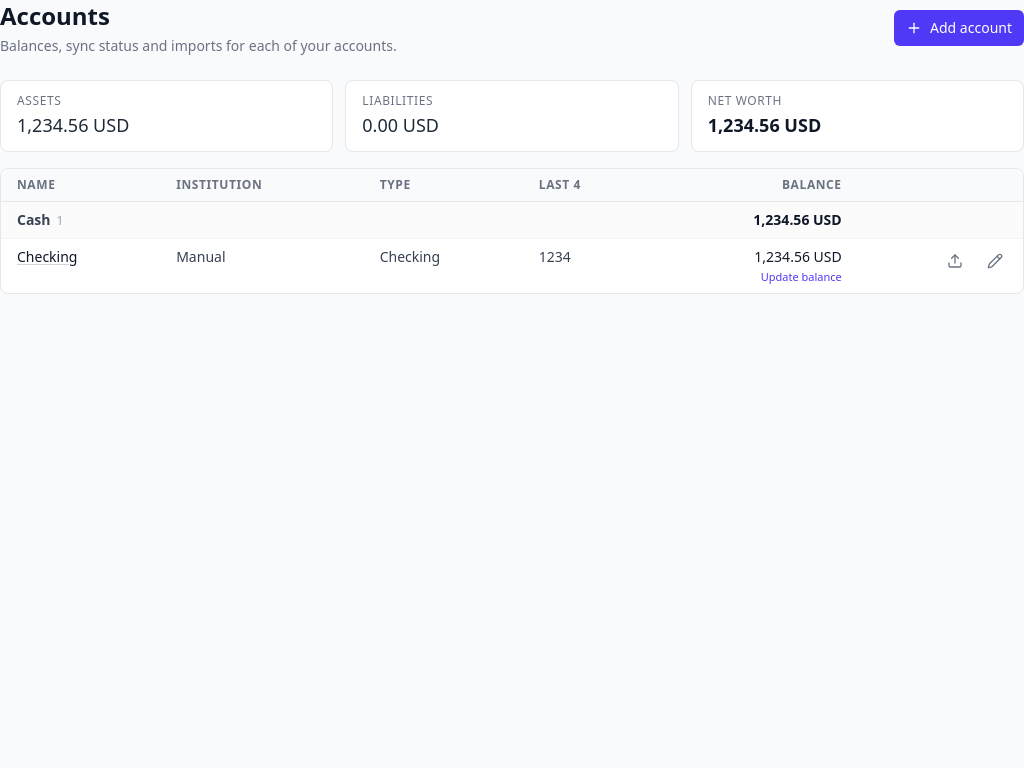
Test: Update balance (#504) › saves a past-dated balance and shows today's balance separately
Click the button with aria-label "Update balance for Checking".
click(754, 277)  # box [667,269,842,285]
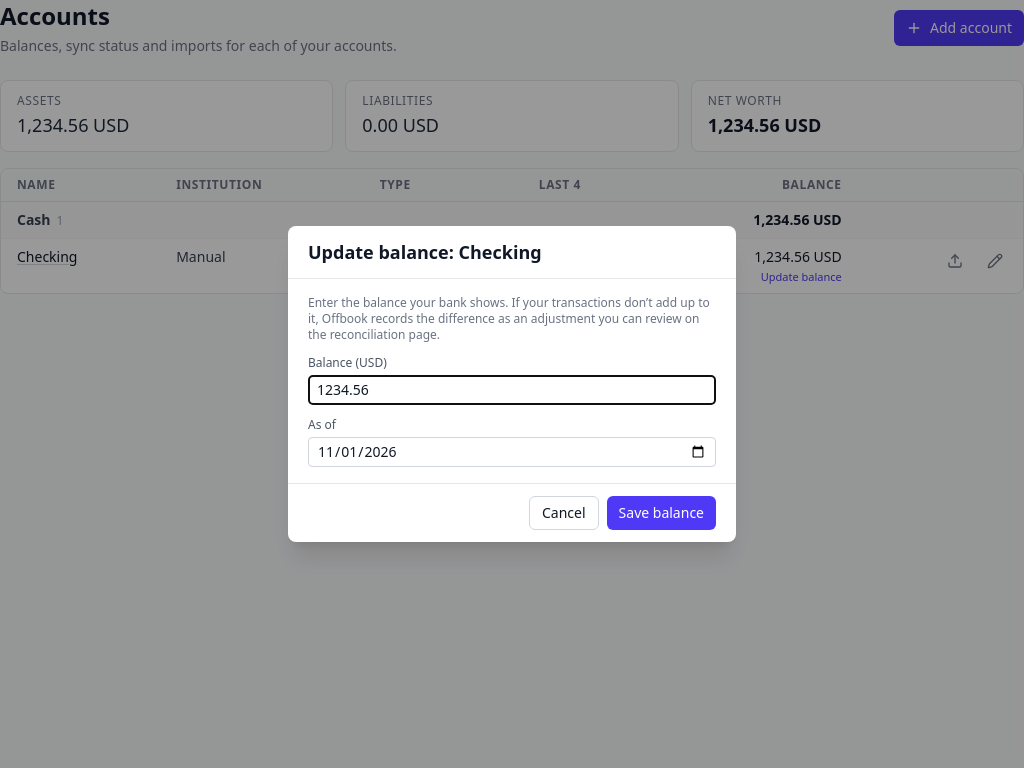
Replace the text in the field labelled "Balance (USD)" with "1000" at (512, 390), box [308,375,716,405]
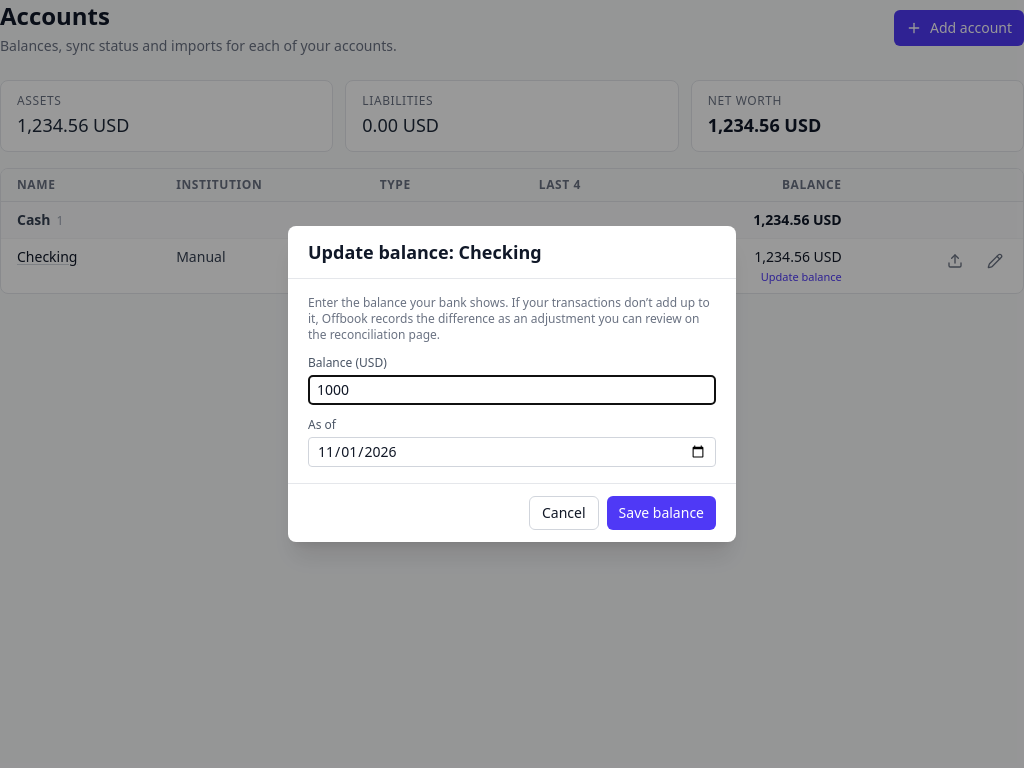
Type "2026-05-31" into the date field labelled "As of".
click(512, 452); type("2026-05-31")  # box [308,437,716,467]
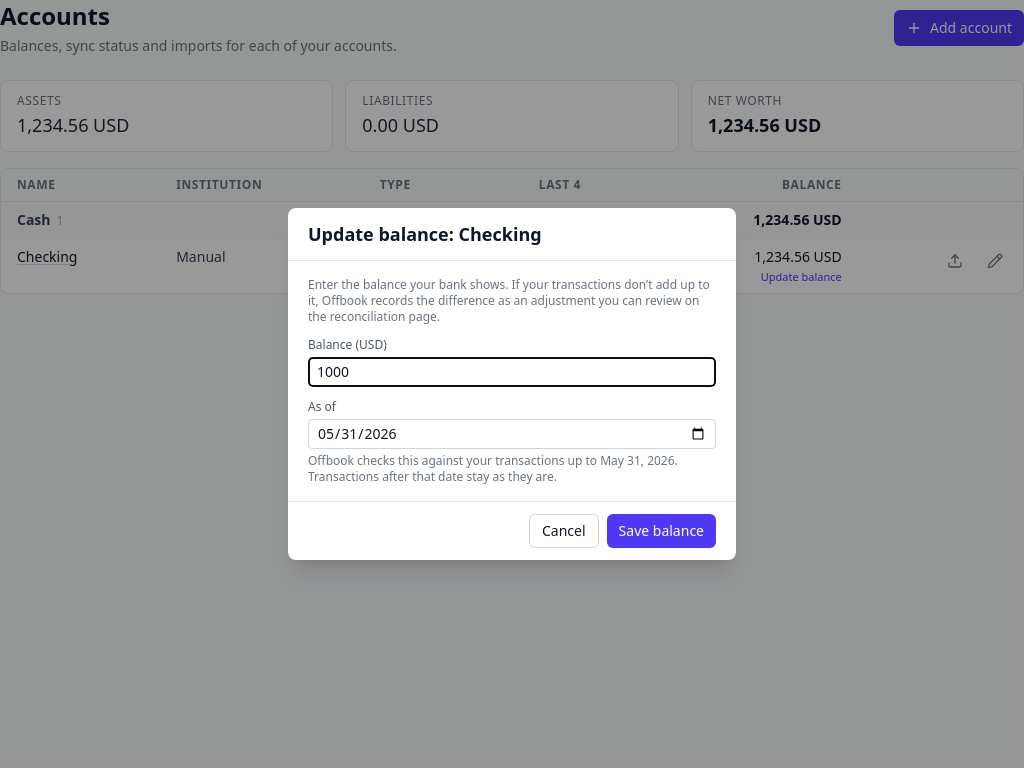
Click the button "Save balance".
click(661, 531)  # box [607,514,716,548]
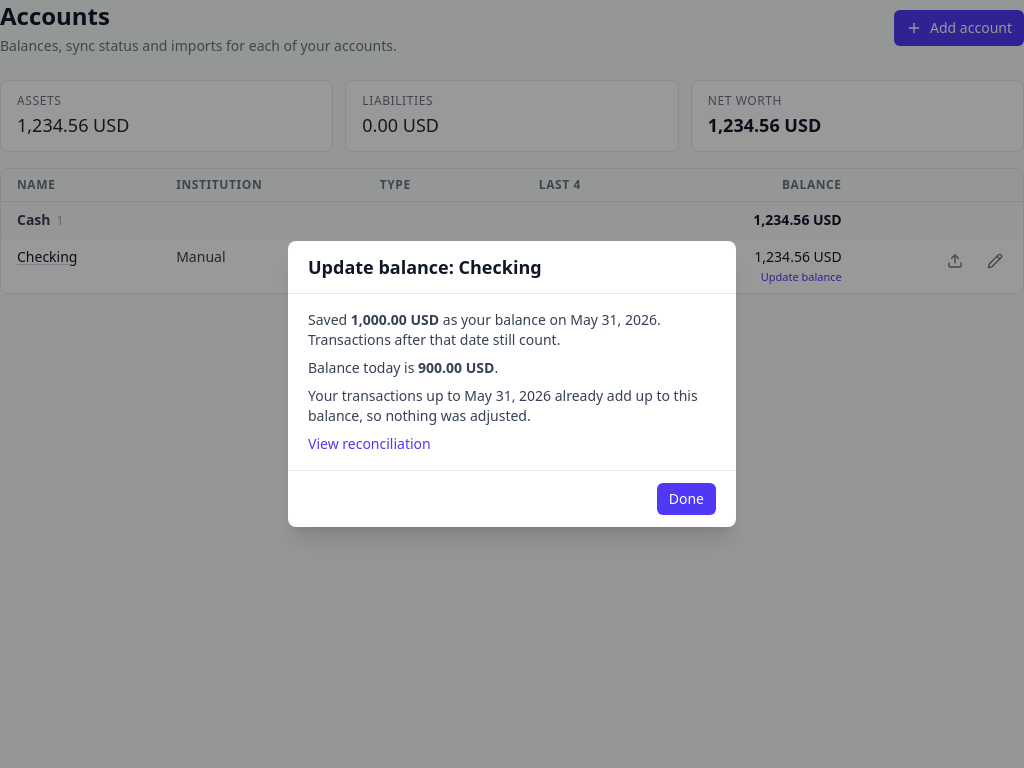
Check: the message shows "Balance today is 900.00", box [288,294,736,470]
Check: the message shows "Your transactions up to May 31, 2026 already add up to this balance", box [288,294,736,470]
